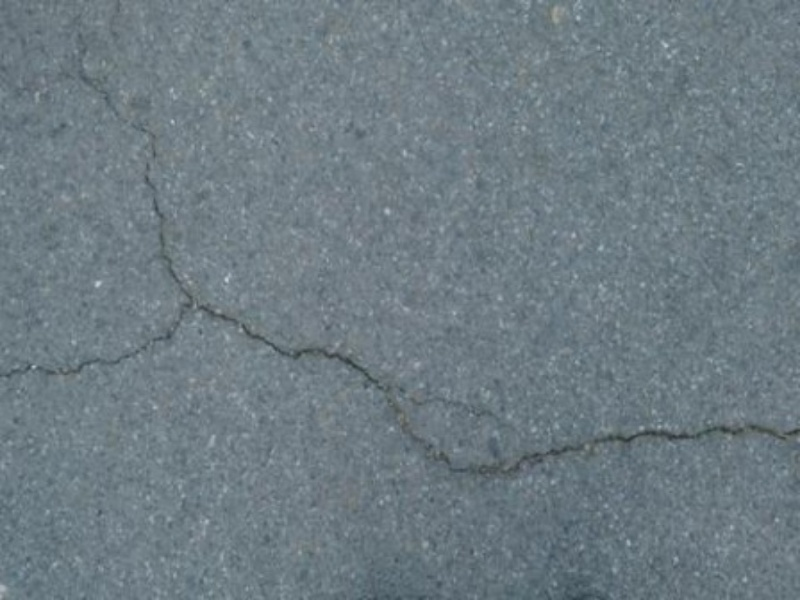crack: (82, 64, 788, 494), (20, 279, 204, 399)
